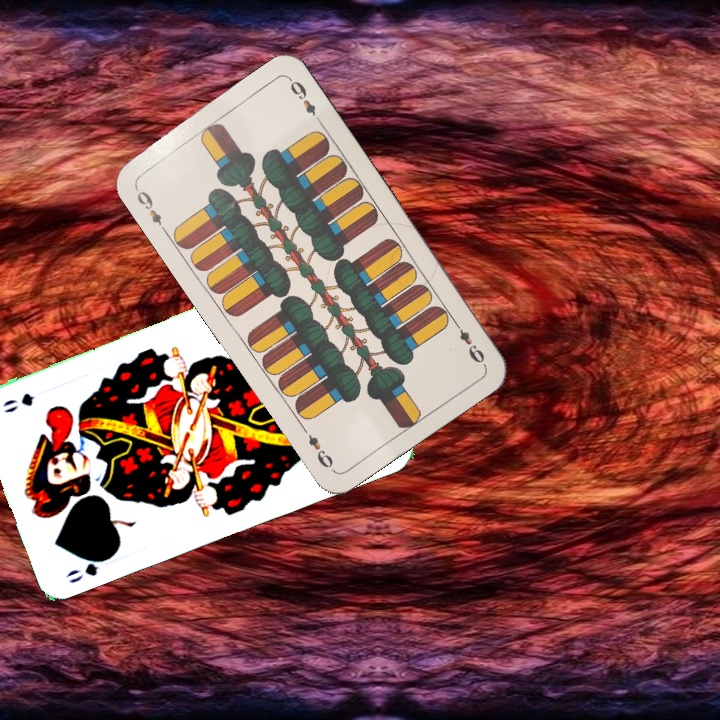E9: (449, 315, 488, 367), (130, 182, 169, 234)
GO: (62, 550, 117, 586)
